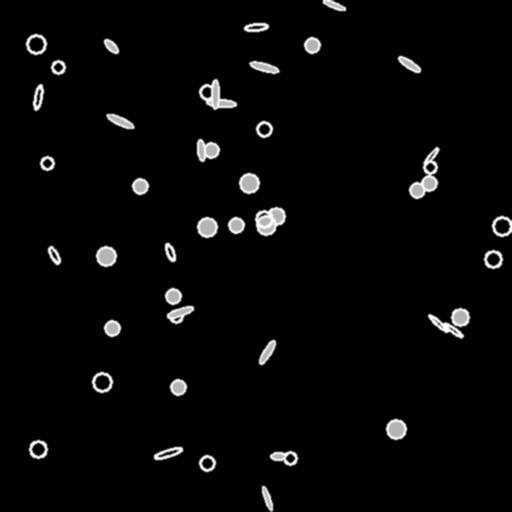pseudomonas: (106, 112, 134, 130), (153, 445, 183, 461), (258, 339, 276, 365), (427, 313, 449, 333), (397, 55, 421, 73), (249, 60, 279, 74), (167, 304, 193, 320), (260, 485, 274, 511), (422, 146, 440, 166), (443, 322, 463, 338), (47, 245, 61, 265), (322, 0, 346, 11), (33, 84, 43, 110), (103, 38, 119, 54), (164, 242, 176, 262), (244, 22, 268, 32), (207, 99, 235, 107), (211, 80, 219, 108), (197, 140, 205, 160), (270, 452, 286, 460)
synechocystis: (240, 174, 258, 192), (93, 373, 111, 391), (198, 218, 216, 236), (257, 216, 275, 234), (27, 35, 45, 53), (387, 420, 405, 438), (493, 217, 511, 235), (97, 247, 115, 265), (452, 309, 468, 325), (485, 251, 501, 267), (268, 208, 284, 224), (30, 441, 46, 457), (256, 211, 272, 227), (166, 289, 180, 303), (410, 183, 424, 197), (422, 176, 436, 190), (204, 143, 218, 157), (257, 122, 271, 136), (171, 380, 185, 394), (229, 218, 243, 232), (305, 38, 319, 52), (200, 85, 214, 99), (133, 179, 147, 193), (105, 321, 119, 335), (200, 456, 214, 470), (170, 310, 182, 322), (424, 161, 436, 173), (284, 452, 296, 464), (41, 157, 53, 169), (52, 61, 64, 73)
